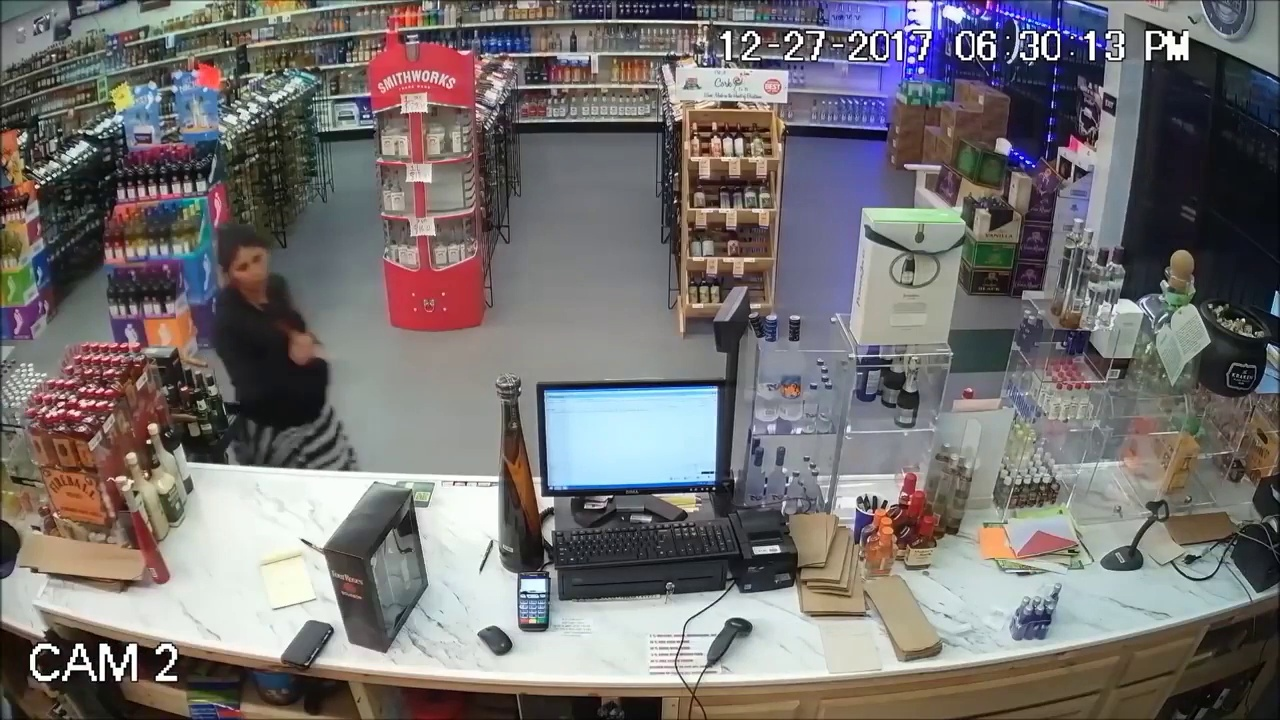face: (224, 249, 270, 293)
